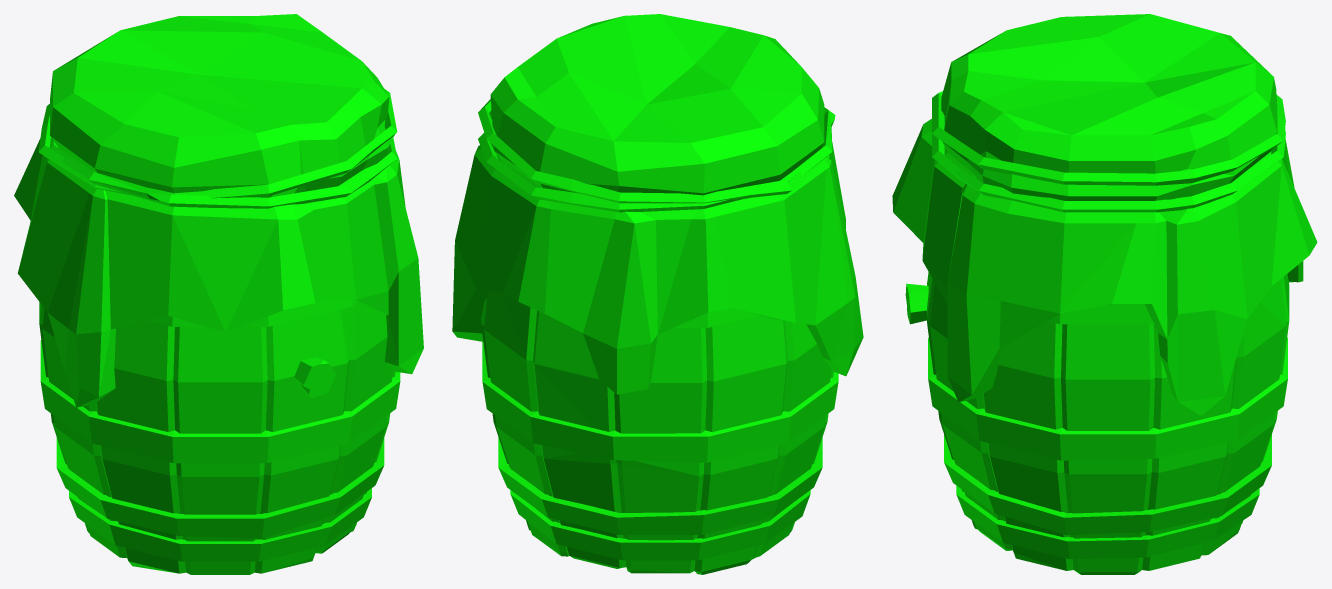
Rendered from SM_Barrel_Wood_Covered_Fantasy.fbx.
3 views of the same model, side by side, from view 1: azimuth 30°, elevation 25°; view 2: azimuth 150°, elevation 25°; view 3: azimuth 270°, elevation 25° (orthographic).
Parts seen in each view (by area): view 1: barrel-wood-covered-fantasy; view 2: barrel-wood-covered-fantasy; view 3: barrel-wood-covered-fantasy.
Boxes of the visible parts, left/top/right/bottom form: barrel-wood-covered-fantasy: left=14, top=14, right=423, bottom=574; barrel-wood-covered-fantasy: left=452, top=14, right=863, bottom=574; barrel-wood-covered-fantasy: left=892, top=14, right=1317, bottom=574.
Size of the model in its own units: 1.04 by 1.32 by 1.11.
